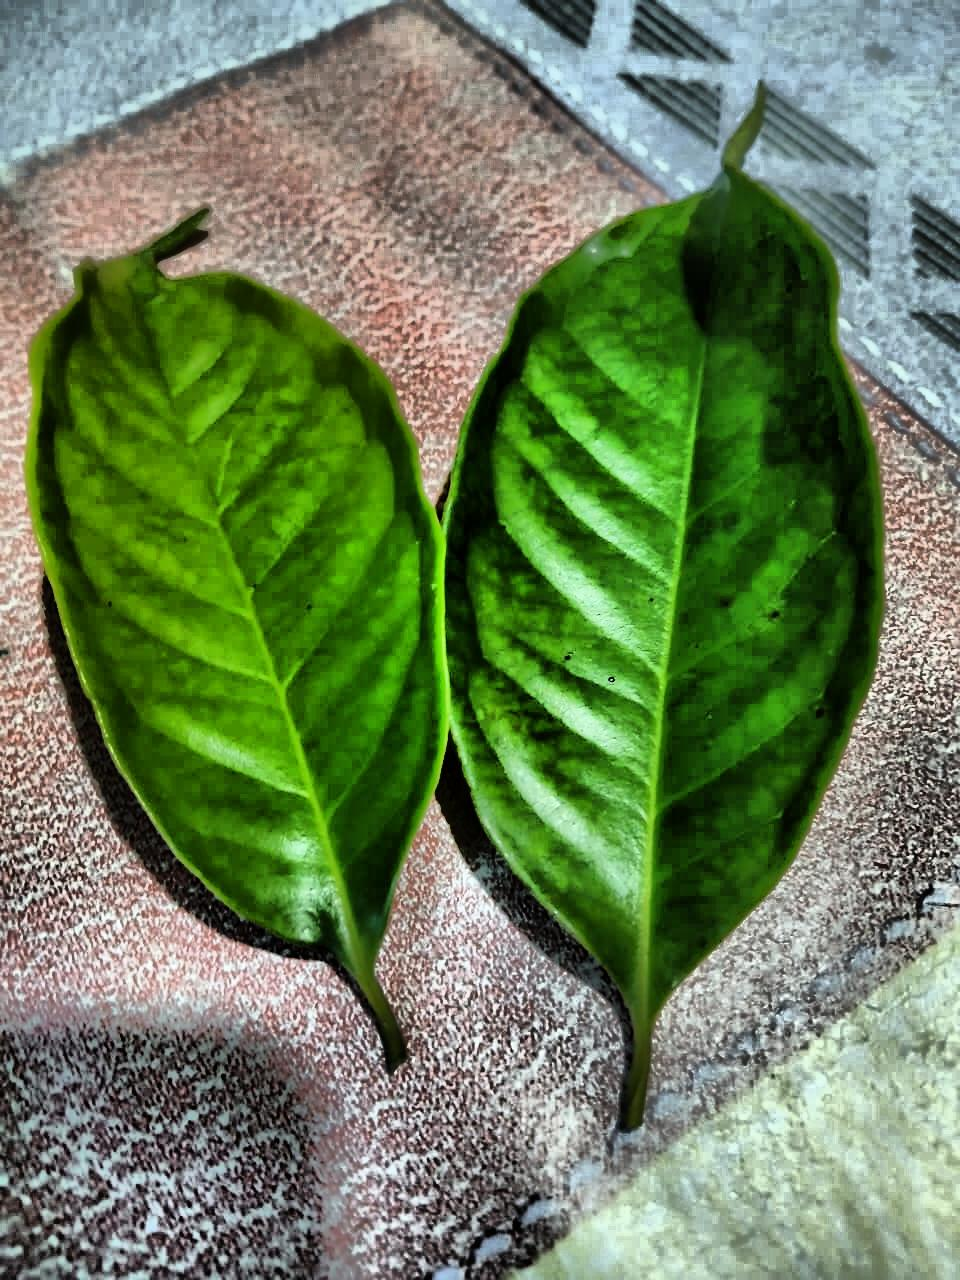daun salam: (445, 95, 880, 1122), (26, 210, 447, 1061)
